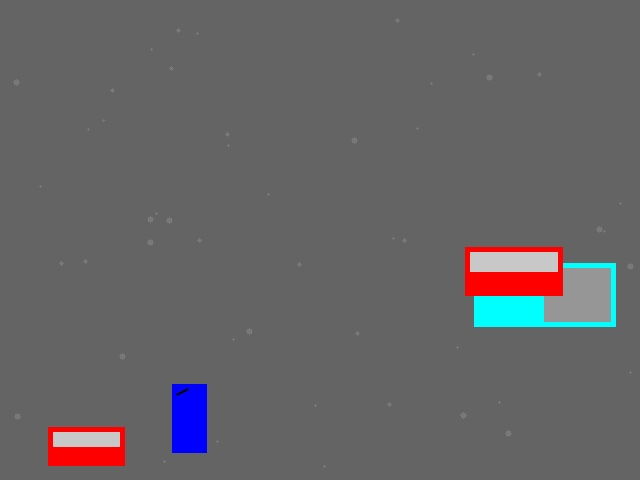car: (465, 247, 562, 295), (48, 427, 124, 465)
motorcycle: (172, 384, 206, 452)
truck: (474, 263, 615, 326)
